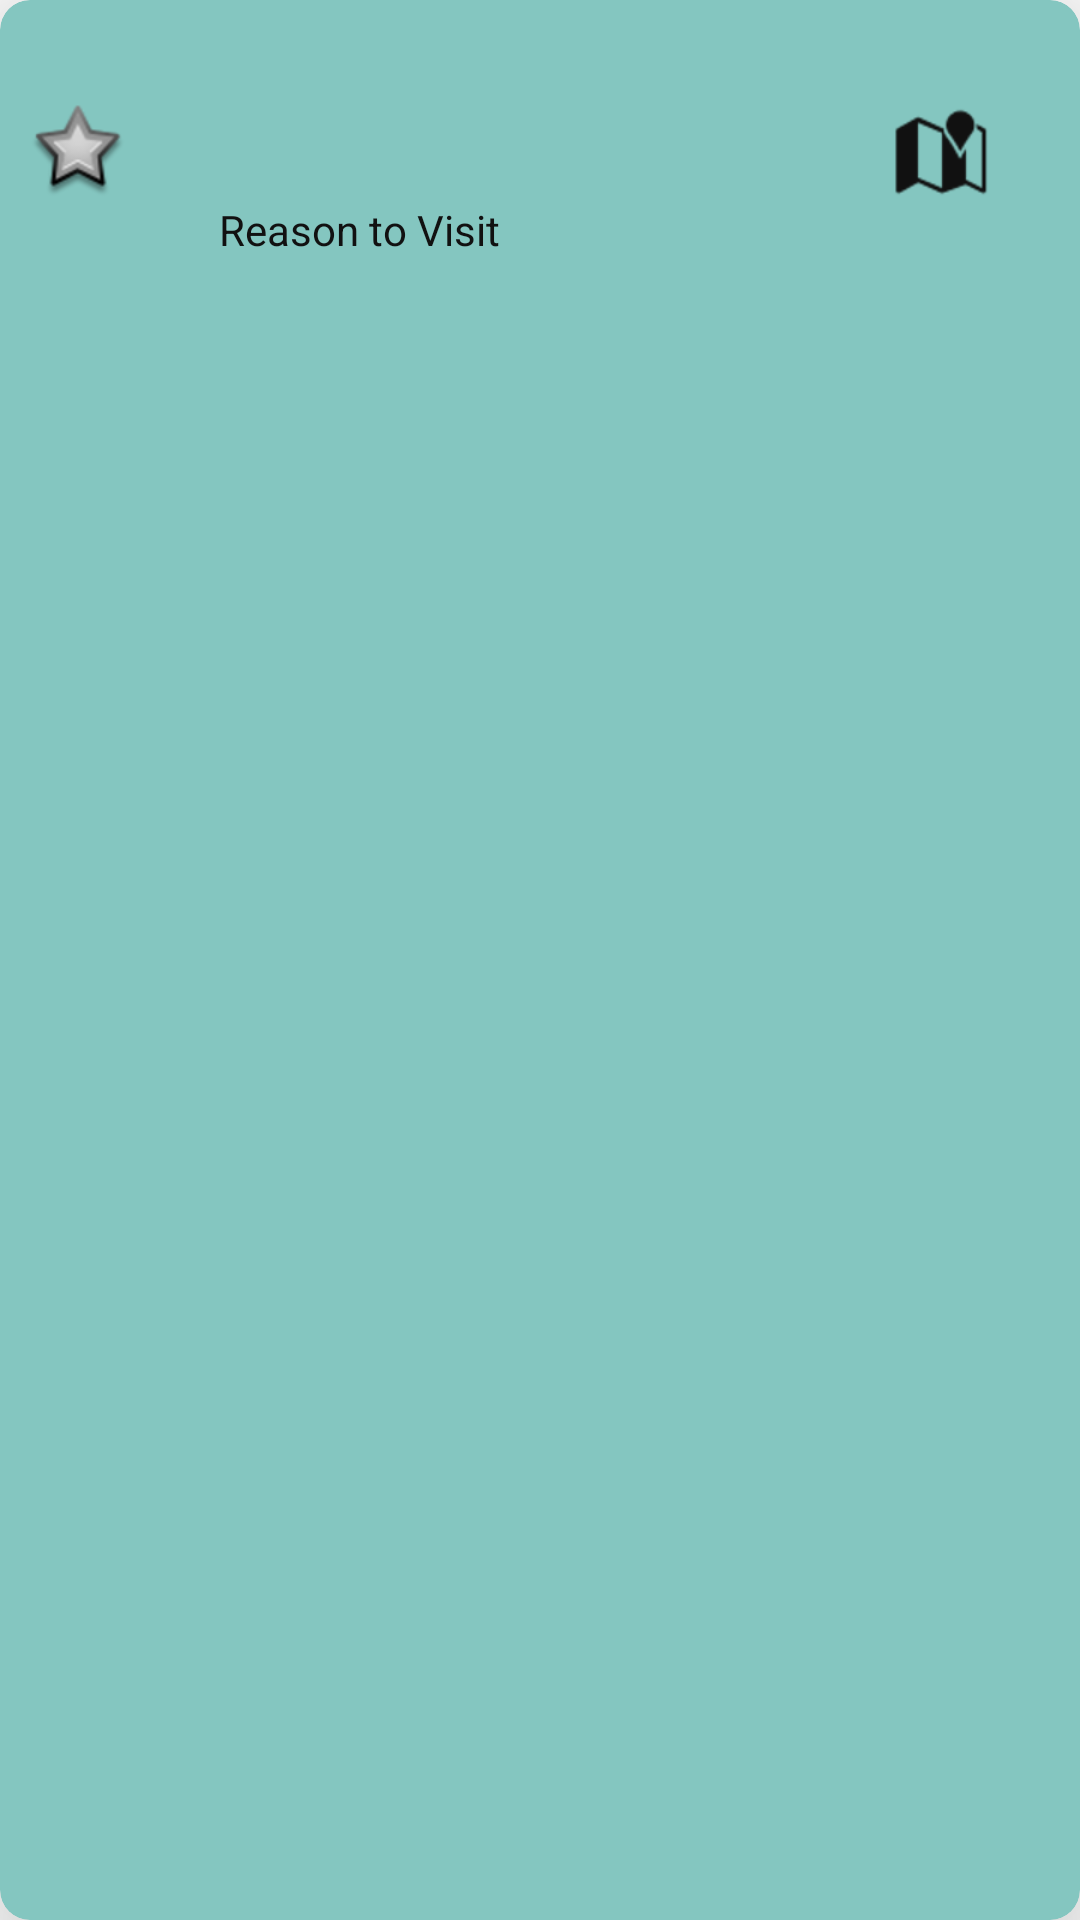

Icons on this 1080px x 1920px Android screen, each with the point to tap as (x=x, y=y):
Show Map: (x=941, y=152)
star check: (x=78, y=149)
